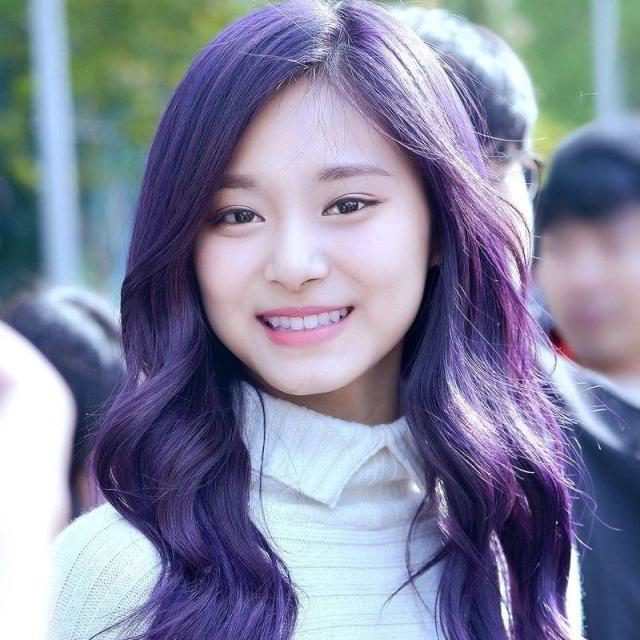Nonhelmet: (150, 0, 498, 418)
